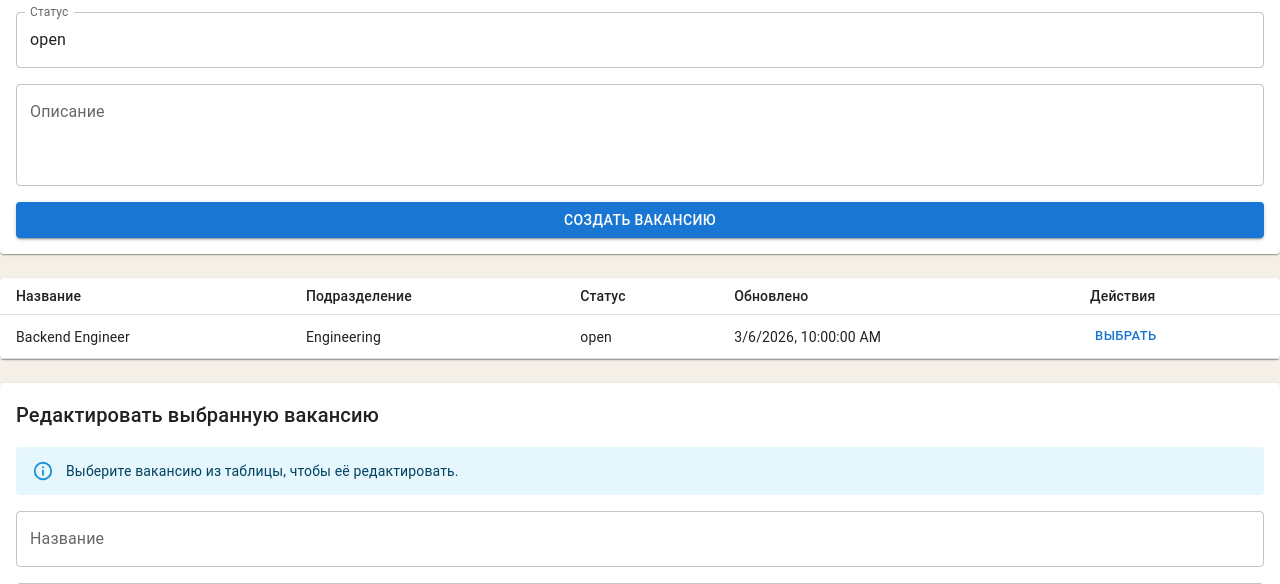
HrDashboardPage › renders low-confidence manual review warning in russian without hiding score details
(page scrolled)
Click the button "Выбрать" at (1126, 337), box [1090,321,1162,352]
(page scrolled)
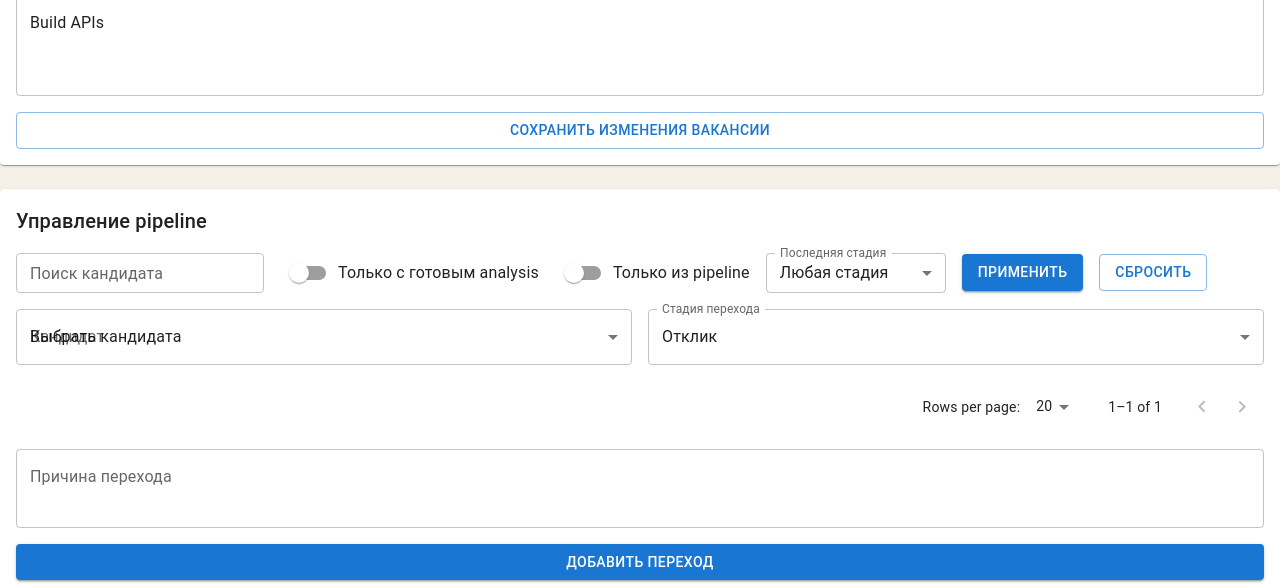
Select "John Doe (john@example.com)" in the dropdown labelled "Кандидат" at (324, 336), box [16,308,632,364]
(page scrolled)
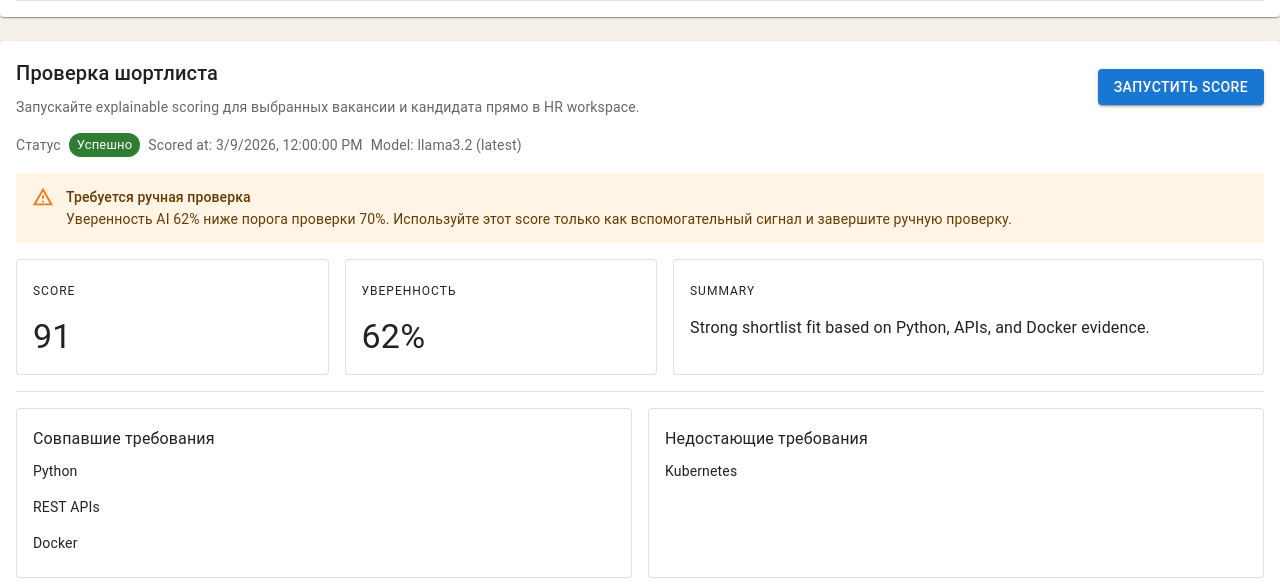
Expected: the heading "Требуется ручная проверка" is shown, [66,189,251,205]
Expected: the text "Уверенность AI 62% ниже порога проверки 70%" is shown, [66,211,1012,227]
Expected: the heading "91" is shown, [33,316,72,356]
